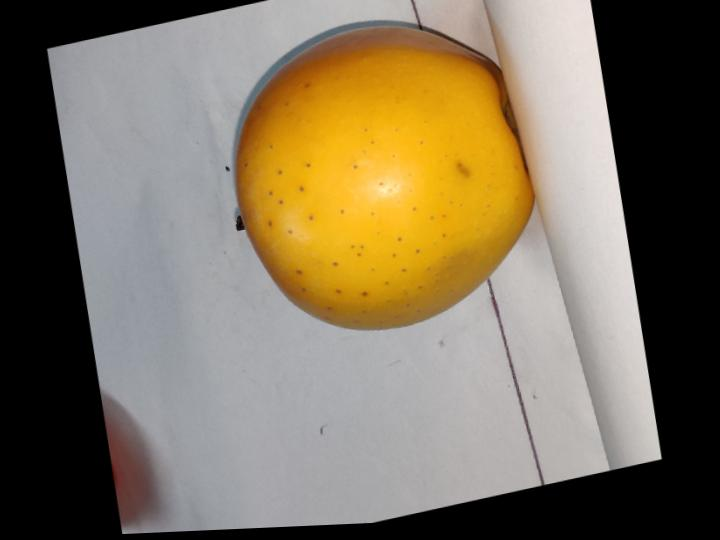apple: (235, 27, 533, 330)
